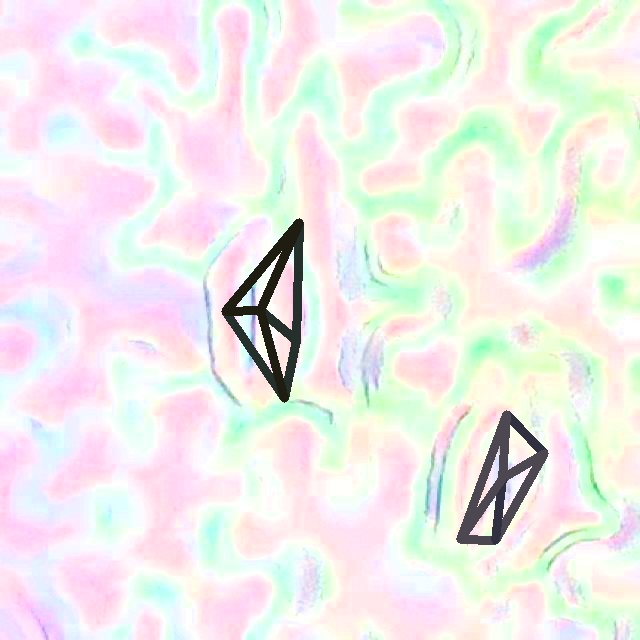open: (221, 218, 300, 402), (456, 411, 548, 544)
